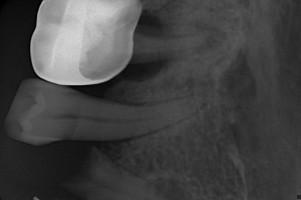Dental Caries: (119, 60, 170, 83), (195, 20, 229, 51), (135, 9, 163, 35)
